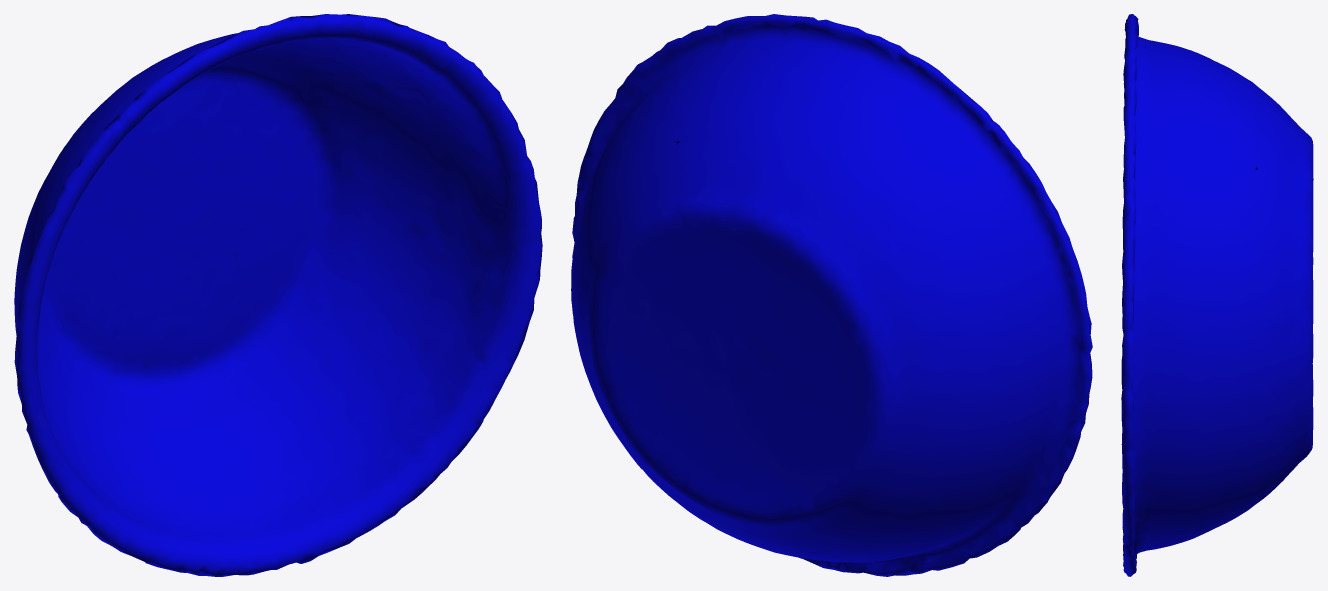
3 views of the same model, side by side, from view 1: azimuth 30°, elevation 25°; view 2: azimuth 150°, elevation 25°; view 3: azimuth 270°, elevation 25° (orthographic). The views are drawn at different scales.
Size of the model in its own units: 0.0967 by 0.0969 by 0.033.
